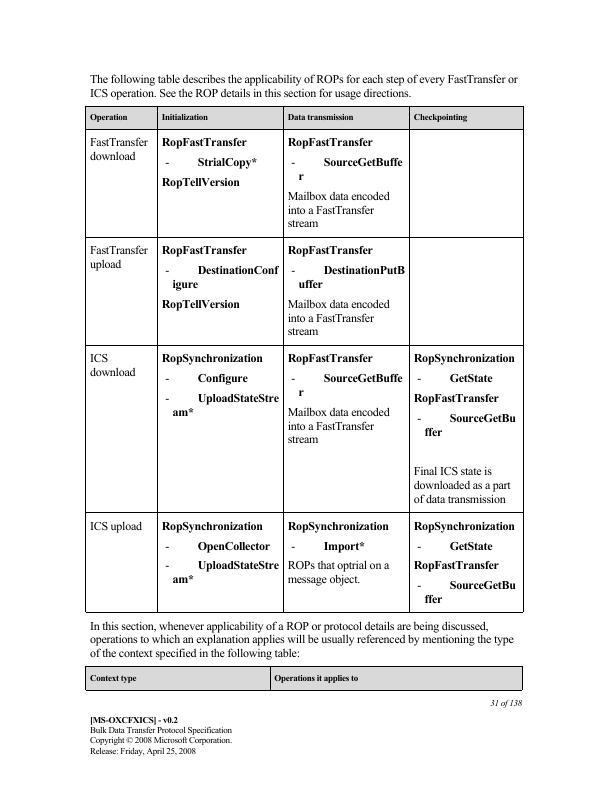table: (82, 104, 527, 617), (82, 664, 525, 694)
text: (86, 618, 514, 658), (88, 71, 520, 99), (87, 712, 235, 761), (486, 695, 527, 711)
